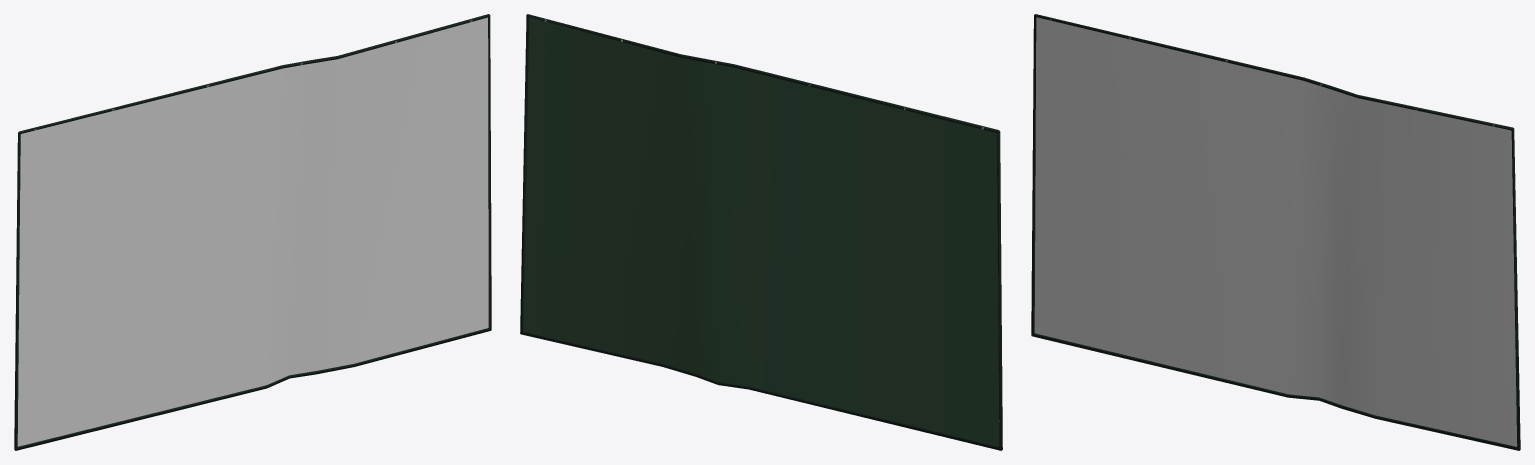
The model's file is SM_H_Tide_Dock_Fabric_01_ATLAS.fbx.
3 views of the same model, side by side, from view 1: azimuth 30°, elevation 25°; view 2: azimuth 150°, elevation 25°; view 3: azimuth 330°, elevation 25° (orthographic).
Visible parts, largest first — view 1: SM_H_Tide_Dock_Fabric_01_ATLAS; view 2: SM_H_Tide_Dock_Fabric_01_ATLAS; view 3: SM_H_Tide_Dock_Fabric_01_ATLAS.
Boxes of the visible parts, left/top/right/bottom form: SM_H_Tide_Dock_Fabric_01_ATLAS: left=14, top=14, right=491, bottom=450; SM_H_Tide_Dock_Fabric_01_ATLAS: left=520, top=14, right=1002, bottom=450; SM_H_Tide_Dock_Fabric_01_ATLAS: left=1031, top=14, right=1520, bottom=450.
Size of the model in its own units: 458 by 10.62 by 293.
